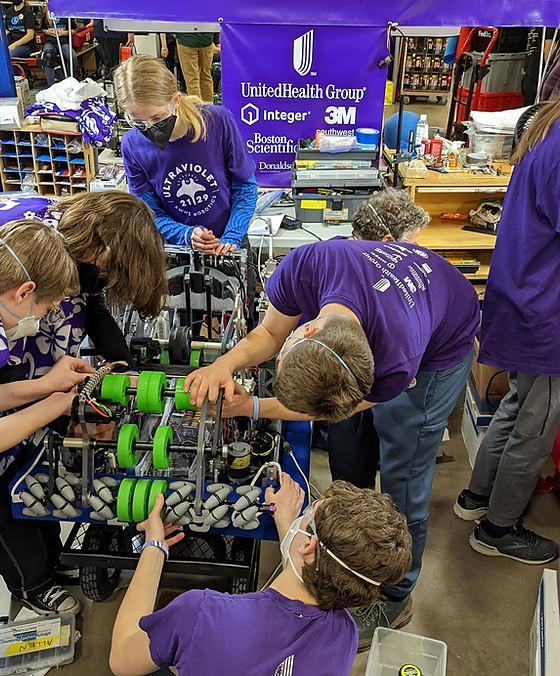robot: (8, 228, 315, 568)
